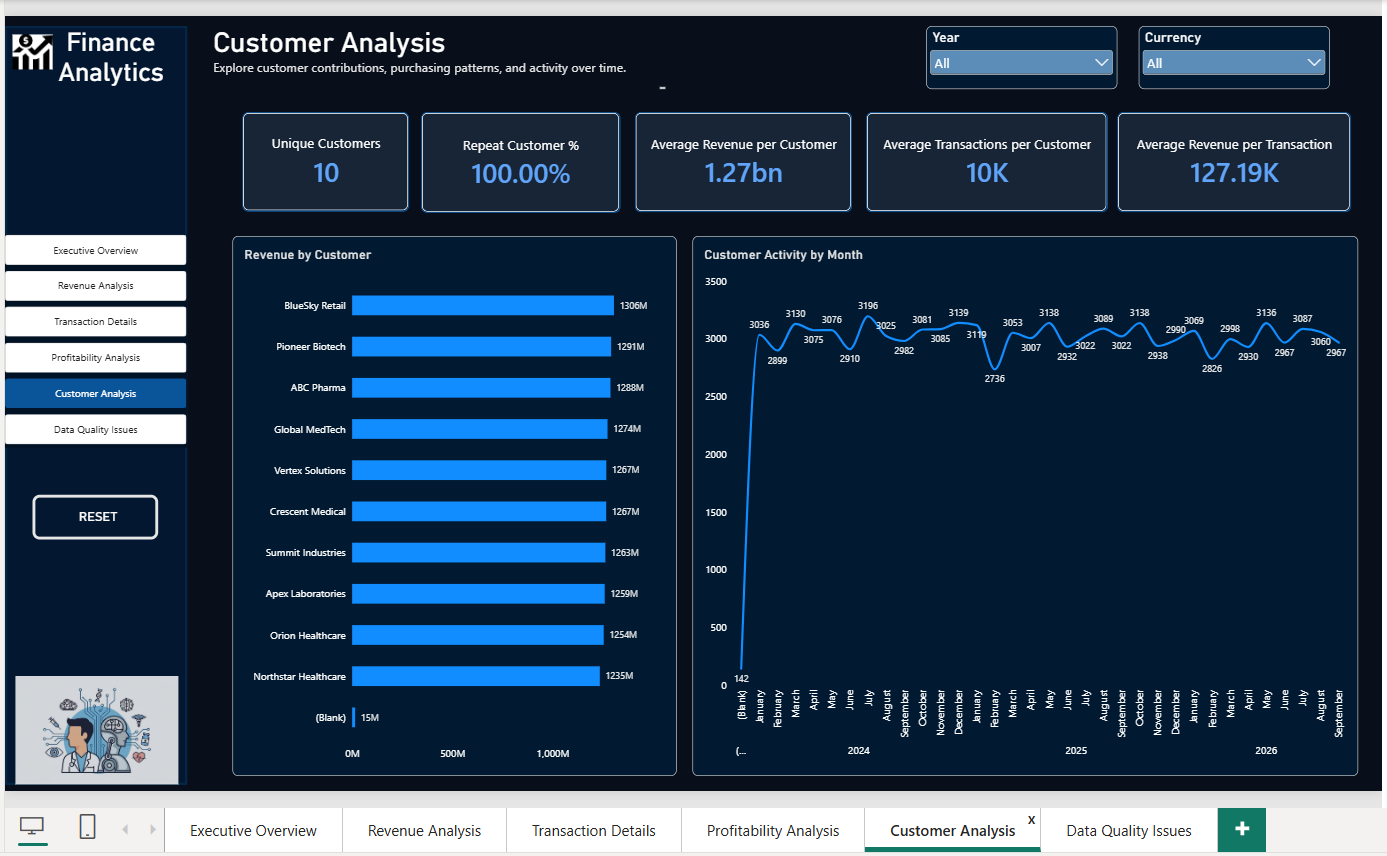

Layout of this report page (visuals, bound fields, positions):
{"tool":"powerbi","page":{"name":"Customer Analysis","canvas":[1920,1080],"ordinal":4},"visuals":[{"type":"textbox","title":"Customer Analysis","box":[282,14,638,88],"z":0},{"type":"shape","box":[0,14,254,1058],"z":1000},{"type":"pageNavigator","box":[0,305.1,253.2,296.5],"z":2000},{"type":"slicer","fields":{"Values":["dw DimDate.FullDate.Variation.Date Hierarchy.Year"]},"box":[1284,14,266,88],"z":4000},{"type":"slicer","fields":{"Values":["dw DimCurrency.CurrencyCode"]},"box":[1580,14,266,88],"z":5000},{"type":"cardVisual","fields":{"Data":["Measures (2).Unique Customers"]},"box":[331.2,133.9,232,138],"z":6000},{"type":"clusteredBarChart","title":"Revenue by Customer","fields":{"Category":["dw DimCustomer.CustomerName"],"Y":["Measures (2).Total Revenue"]},"box":[316.7,305.8,618.9,752.8],"z":7000},{"type":"cardVisual","fields":{"Data":["Measures (2).Average Revenue per Customer"]},"box":[877.7,133.9,302.2,139.3],"z":8000},{"type":"cardVisual","fields":{"Data":["Measures (2).Repeat Customer %"]},"box":[580.9,133.9,277.5,140],"z":9000},{"type":"lineChart","title":"Customer Activity by Month","fields":{"Category":["dw DimDate.FullDate.Variation.Date Hierarchy.Year","dw DimDate.FullDate.Variation.Date Hierarchy.Month"],"Y":["Measures (2).Transaction Rows"]},"box":[959.1,305.8,928.4,752.8],"z":10000},{"type":"cardVisual","fields":{"Data":["Measures (2).Average Transactions per Customer"]},"box":[1199.8,133.9,336.6,139.3],"z":11000},{"type":"image","box":[10.8,21.6,56.3,58.4],"z":11001},{"type":"textbox","title":"Finance Analytics","box":[21.6,6.5,254,90],"z":11002},{"type":"actionButton","title":"RESET","box":[39,666.6,175.3,62.8],"z":11003},{"type":"image","box":[2.2,919.8,253.2,151.5],"z":11004},{"type":"cardVisual","fields":{"Data":["Measures (2).Average Revenue per Transaction"]},"box":[1550.9,133.9,325.7,139.3],"z":11005}]}

Visuals, with their boxes on the page's 1920x1080 design canvas (x1, y1, x2, y2). These are canvas units, not pixel positions in the 1387x856 screenshot, which may show the page scaled, cropped or inside an application window:
"Customer Analysis" textbox: [282,14,920,102]
shape: [0,14,254,1072]
pageNavigator: [0,305,253,602]
slicer - dw DimDate.FullDate.Variation.Date Hierarchy.Year: [1284,14,1550,102]
slicer - dw DimCurrency.CurrencyCode: [1580,14,1846,102]
cardVisual - Measures (2).Unique Customers: [331,134,563,272]
"Revenue by Customer" clusteredBarChart: [317,306,936,1059]
cardVisual - Measures (2).Average Revenue per Customer: [878,134,1180,273]
cardVisual - Measures (2).Repeat Customer %: [581,134,858,274]
"Customer Activity by Month" lineChart: [959,306,1888,1059]
cardVisual - Measures (2).Average Transactions per Customer: [1200,134,1536,273]
image: [11,22,67,80]
"Finance Analytics" textbox: [22,6,276,96]
"RESET" actionButton: [39,667,214,729]
image: [2,920,255,1071]
cardVisual - Measures (2).Average Revenue per Transaction: [1551,134,1877,273]
